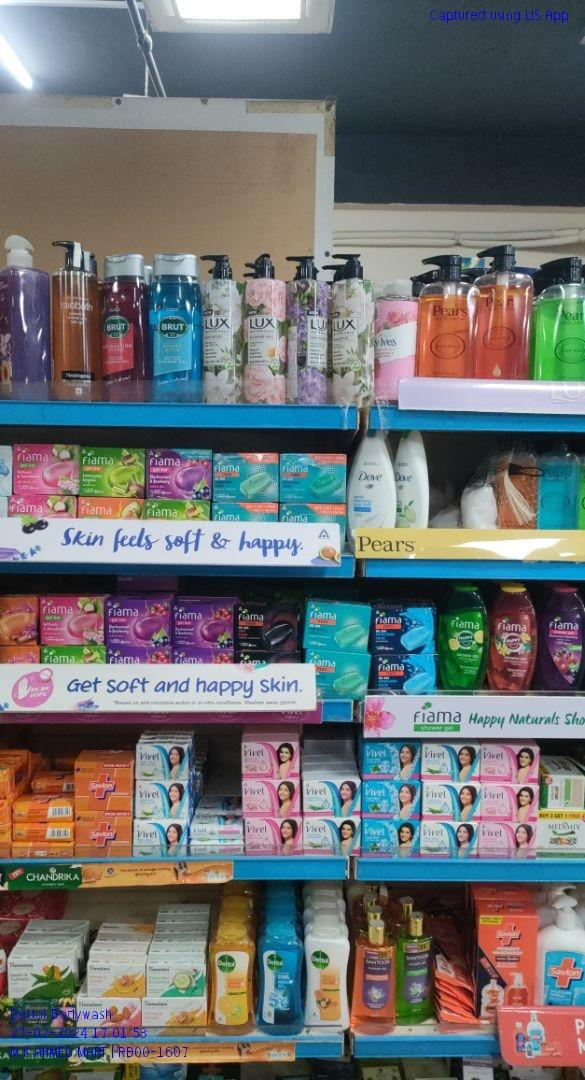Dettol_Bodywash_Cool: (260, 925, 298, 1038)
Dettol_Bodywash_Refresh: (208, 929, 254, 1037)
Dettol_Nourish_Body_Wash_250ML: (304, 914, 349, 1030)
Dove_Gentle_Exfoliating_Body_Wash_250ML: (348, 435, 392, 533)
Dove_Refreshing_Body_Wash_250ML: (394, 430, 431, 530)
